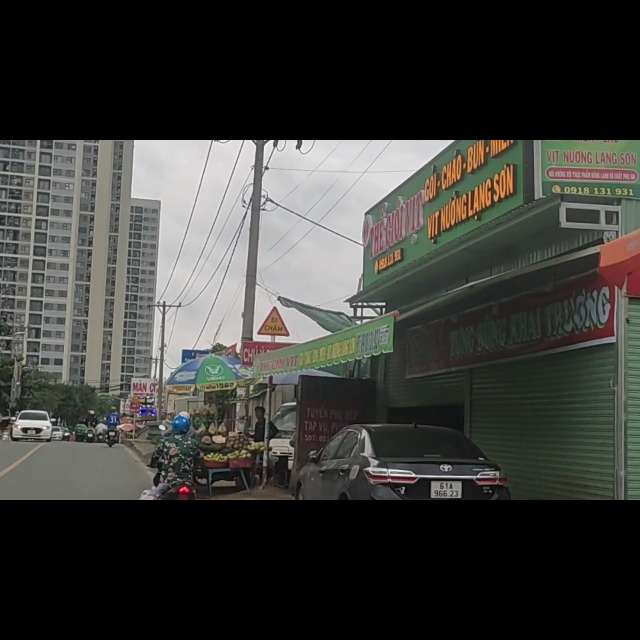bien_nguy_hiem: (258, 295, 289, 348)
